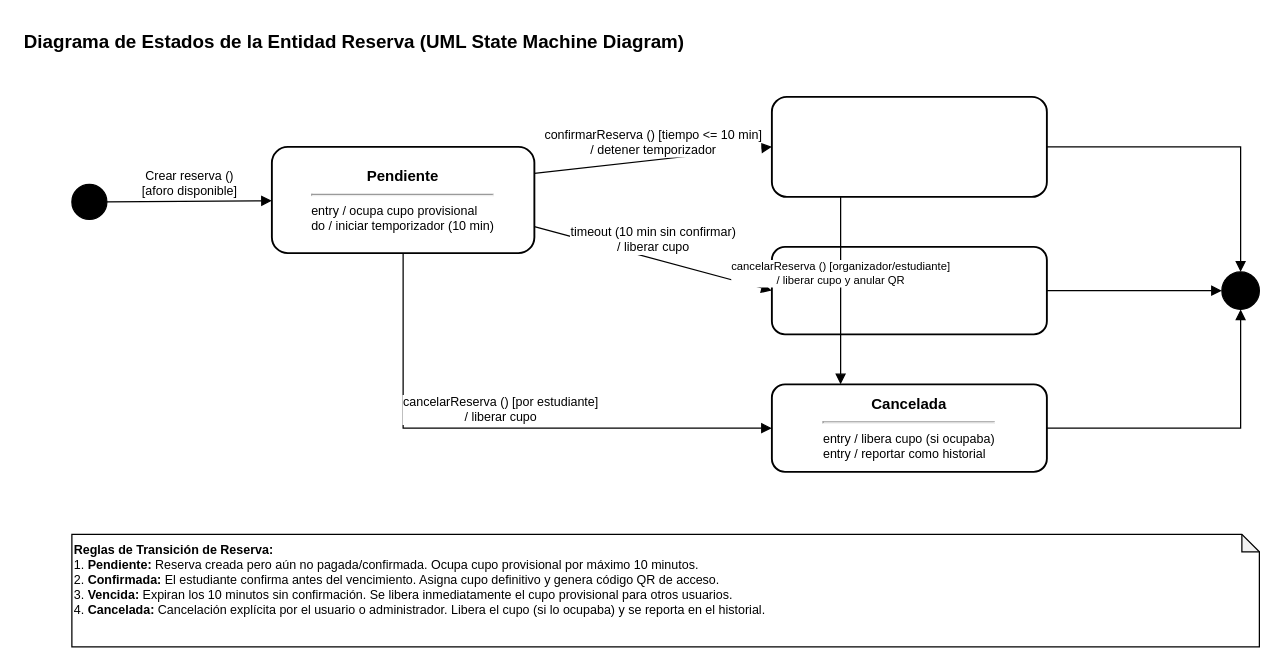
Image size: 1281x669. Some labels were removed from this diagram. Each missing label, with the box of its shape:
Confirmada entry / ocupa cupo definitivo entry / generar código QR válido: (770, 95, 1047, 197)
Vencida entry / libera cupo provisional entry / registrar en historial: (770, 245, 1047, 335)
